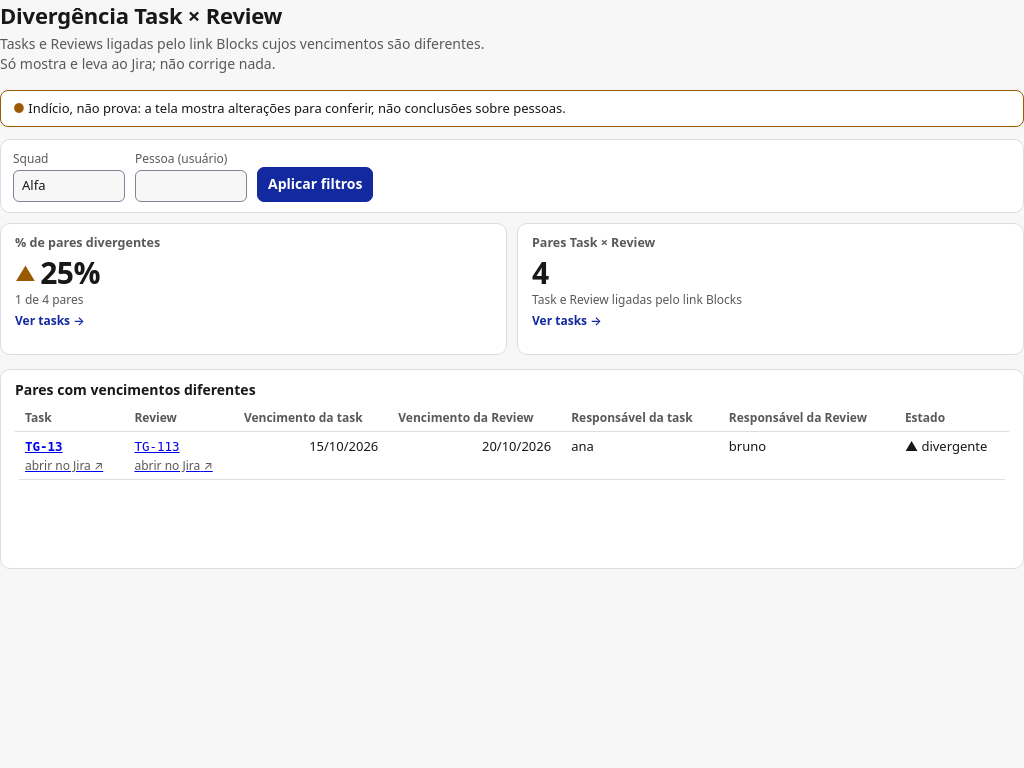
Test: tela Divergência Task × Review › divergenciaAbreLista
Step 1. Click the button named "pares divergentes" → (70, 272), box [15,256,492,330]
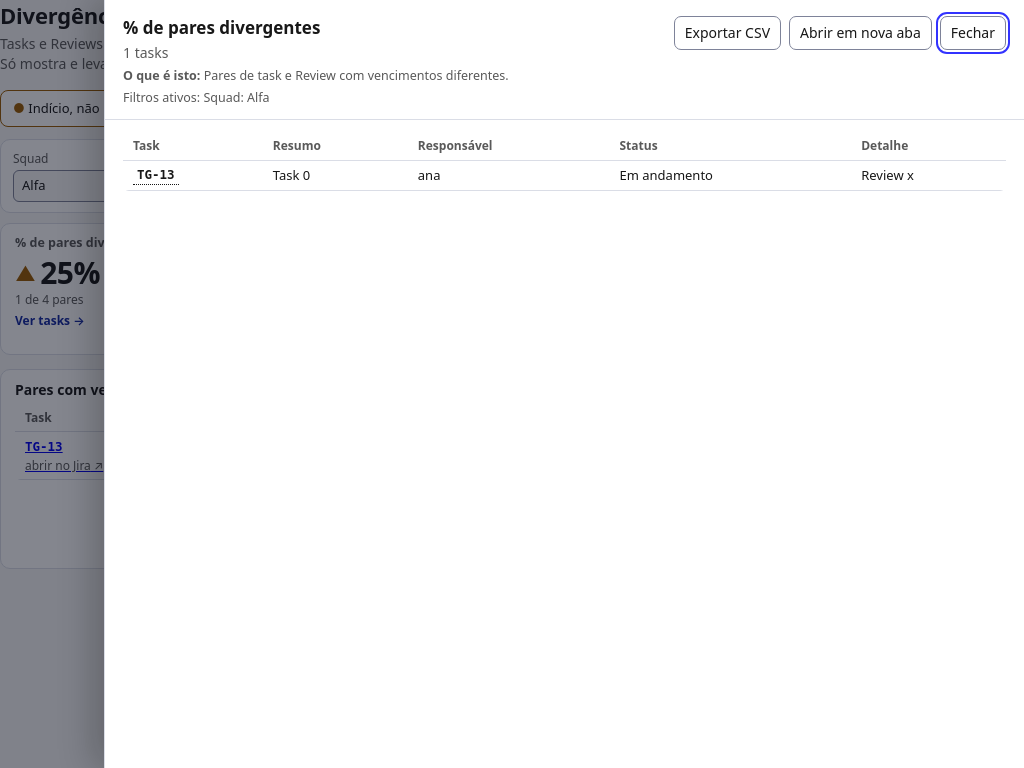
Now the button "TG-13" is shown, box [133,166,179,185]
